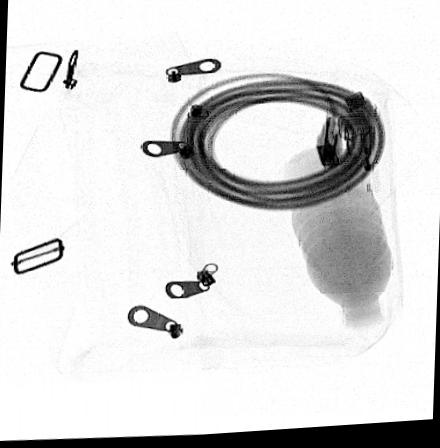Lighter: (342, 122, 376, 202)
